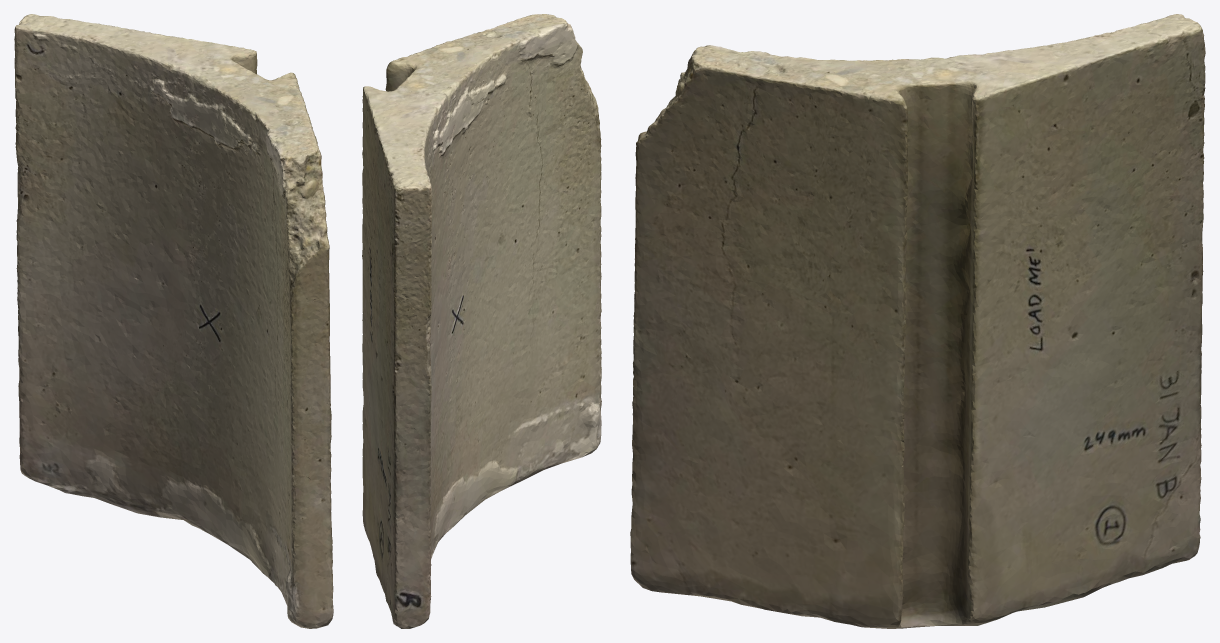
Rendered from Pixel 1.glb.
3 renders of one model, left to right at view 1: azimuth 30°, elevation 25°; view 2: azimuth 150°, elevation 25°; view 3: azimuth 270°, elevation 25°, orthographic. The views are drawn at different scales.
Size of the model in its own units: 0.0992 by 0.2687 by 0.2555.
1 material, 1 textured.
